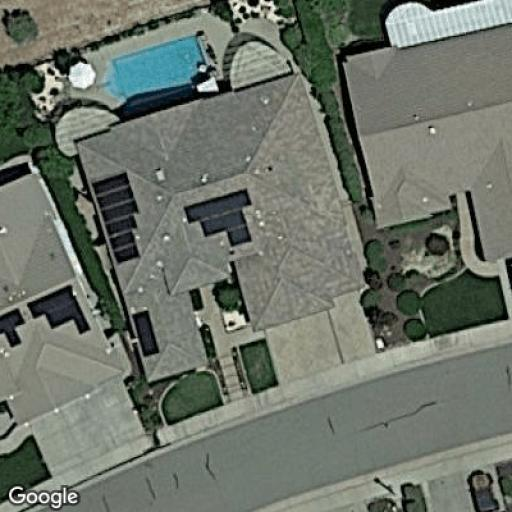solar-panel: (1, 283, 93, 350), (89, 169, 143, 267), (182, 186, 256, 248), (130, 307, 163, 360)
